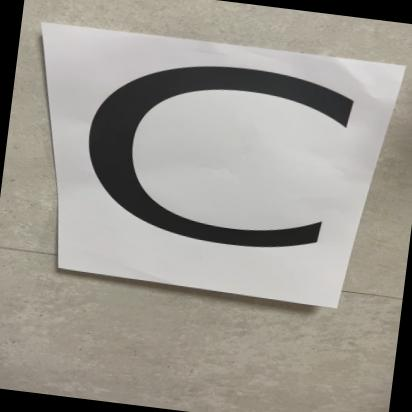seat: (24, 25, 377, 302), (71, 57, 260, 223), (243, 224, 348, 318)
